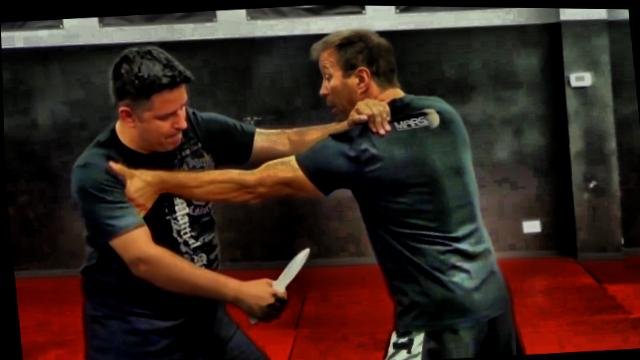knife: (237, 242, 316, 326)
